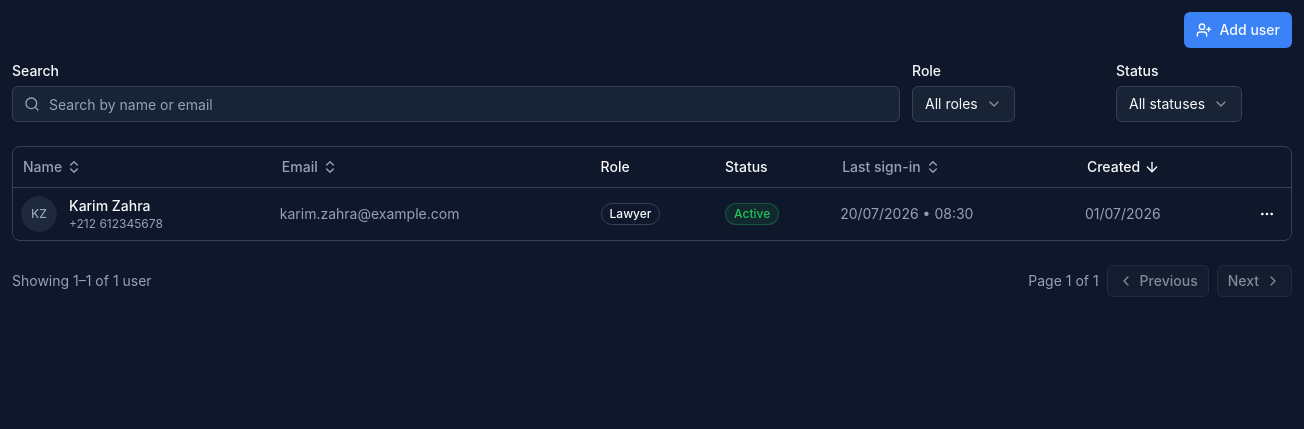
UserDirectory › shows a distinct empty state when a search matches nothing
Check: the link "Karim Zahra" is shown, box [69, 196, 163, 216]
Type "nobody" into the search field labelled "Search" at (456, 104), box [12, 86, 900, 122]
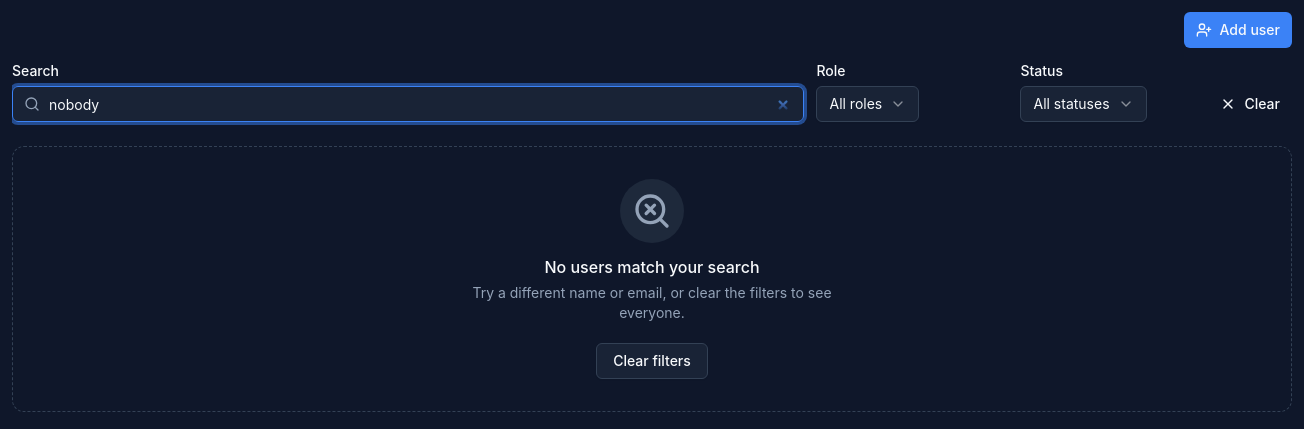
Check: the heading "No users match your search" is shown, box [544, 257, 760, 277]
Check: the button "Clear filters" is shown, box [596, 343, 708, 379]
